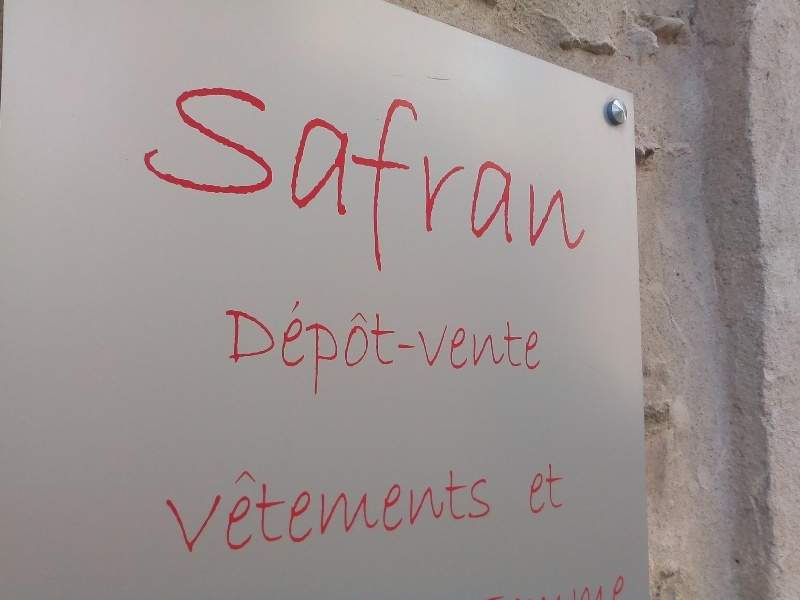text: (161, 45, 176, 292), (177, 45, 192, 292), (193, 45, 208, 292), (209, 45, 224, 292), (225, 45, 240, 292), (241, 45, 256, 292), (257, 45, 272, 292), (273, 45, 288, 292), (289, 45, 304, 292), (305, 45, 320, 292), (321, 45, 336, 292), (337, 45, 352, 292), (353, 45, 368, 292), (369, 45, 384, 292), (385, 45, 400, 292), (401, 45, 416, 292), (417, 45, 432, 292), (433, 45, 448, 292), (449, 45, 464, 292), (465, 45, 480, 292), (481, 45, 496, 292), (497, 45, 512, 292), (513, 45, 528, 292), (529, 45, 544, 292), (545, 45, 560, 292), (561, 45, 576, 292), (577, 45, 592, 292), (147, 45, 160, 292), (529, 289, 545, 399), (225, 289, 240, 399), (241, 289, 256, 399), (257, 289, 272, 399), (273, 289, 288, 399), (289, 289, 304, 399), (305, 289, 320, 399), (321, 289, 336, 399), (337, 289, 352, 399), (353, 289, 368, 399), (369, 289, 384, 399), (385, 289, 400, 399), (401, 289, 416, 399), (417, 289, 432, 399), (433, 289, 448, 399), (449, 289, 464, 399), (465, 289, 480, 399), (481, 289, 496, 399), (497, 289, 512, 399), (513, 289, 528, 399), (161, 453, 176, 560), (177, 453, 192, 560), (193, 453, 208, 560), (209, 453, 224, 560), (225, 453, 240, 560), (241, 453, 256, 560), (257, 453, 272, 560), (273, 453, 288, 560), (289, 453, 304, 560), (305, 453, 320, 560), (321, 453, 336, 560), (337, 453, 352, 560), (353, 453, 368, 560), (369, 453, 384, 560), (385, 453, 400, 560), (401, 453, 416, 560), (417, 453, 432, 560), (433, 453, 448, 560), (449, 453, 464, 560), (465, 453, 480, 560), (481, 453, 494, 560), (529, 462, 544, 518), (545, 462, 560, 518), (593, 45, 596, 292), (481, 571, 496, 599), (497, 571, 512, 599), (513, 571, 528, 599), (529, 571, 544, 599), (545, 571, 560, 599), (561, 571, 576, 599), (577, 571, 592, 599), (593, 571, 608, 599), (609, 571, 624, 599), (466, 571, 480, 599), (157, 453, 160, 560), (625, 571, 633, 599), (561, 462, 564, 518), (223, 289, 224, 399), (527, 462, 528, 518)
